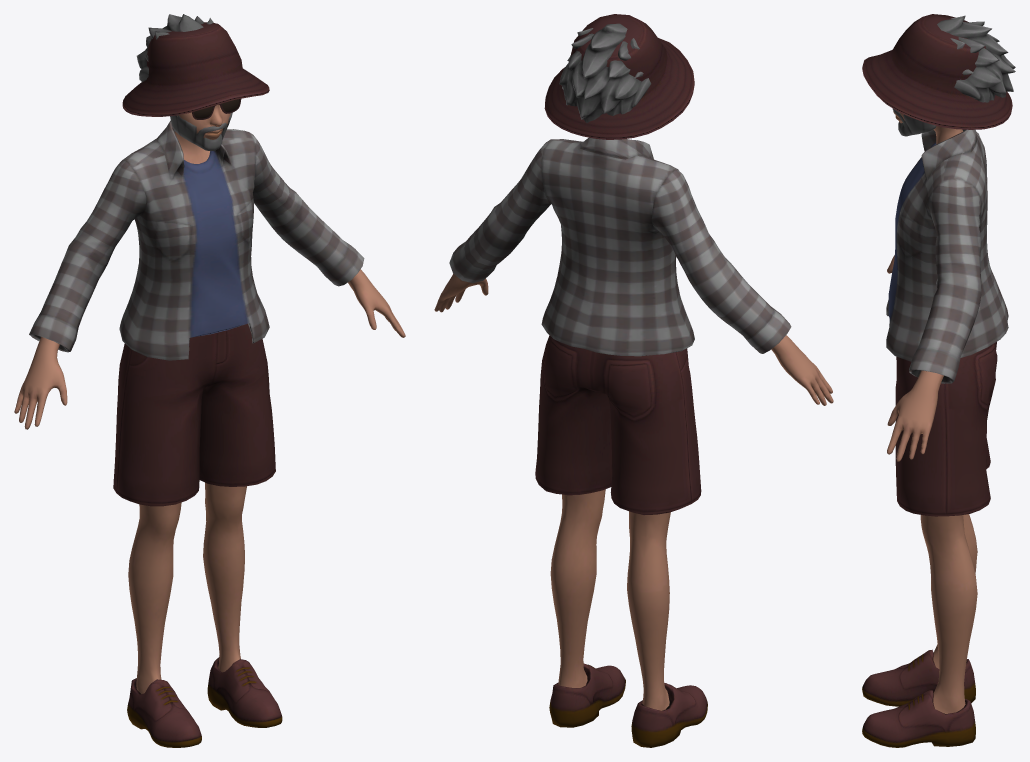
Rendered from Old Tourist_Mesh.obj.
The picture shows the model from 3 angles, left to right: view 1: azimuth 30°, elevation 25°; view 2: azimuth 150°, elevation 25°; view 3: azimuth 270°, elevation 25°; orthographic projection. The views are drawn at different scales.
Visible parts, largest first — view 1: Old Tourist_Mesh_0; view 2: Old Tourist_Mesh_0; view 3: Old Tourist_Mesh_0.
Part boxes in pixels (bbox=[...]): Old Tourist_Mesh_0: bbox=[14, 14, 405, 747]; Old Tourist_Mesh_0: bbox=[434, 14, 833, 747]; Old Tourist_Mesh_0: bbox=[862, 14, 1015, 747].
Size of the model in its own units: 1.06 by 1.84 by 0.3652.
Materials: 1 (1 with a texture image).
